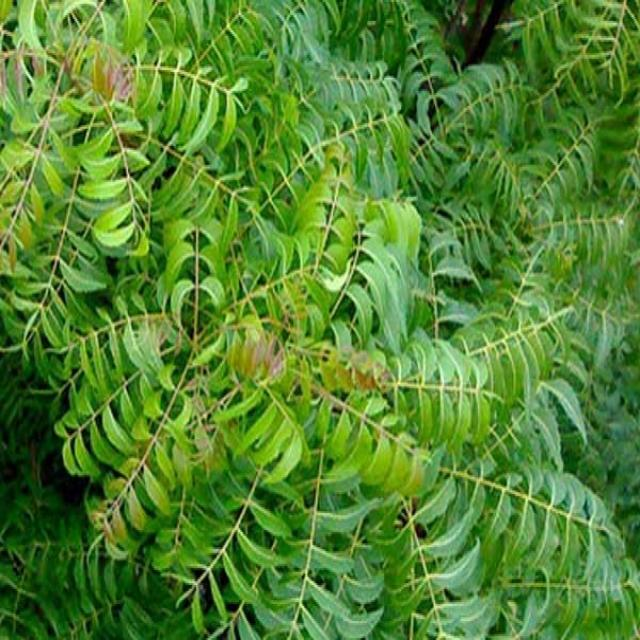Medicinal-Neem: (12, 34, 372, 524), (195, 269, 585, 640)
